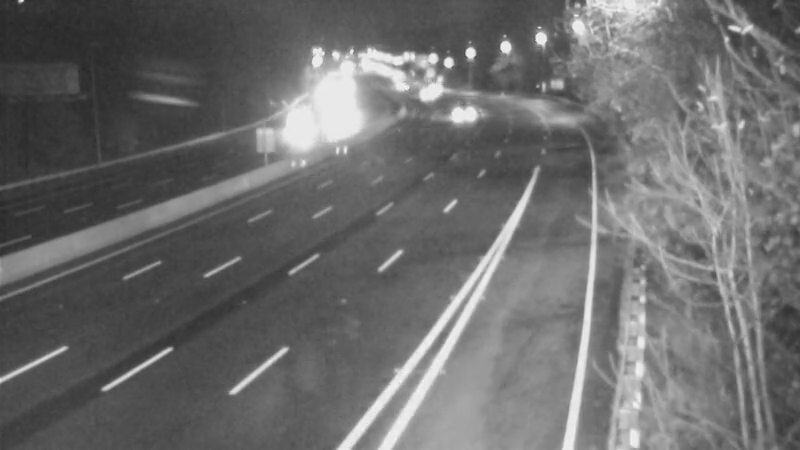vehicle: (379, 62, 429, 112), (398, 72, 448, 122), (440, 88, 490, 138), (275, 107, 325, 157), (310, 95, 360, 145)
